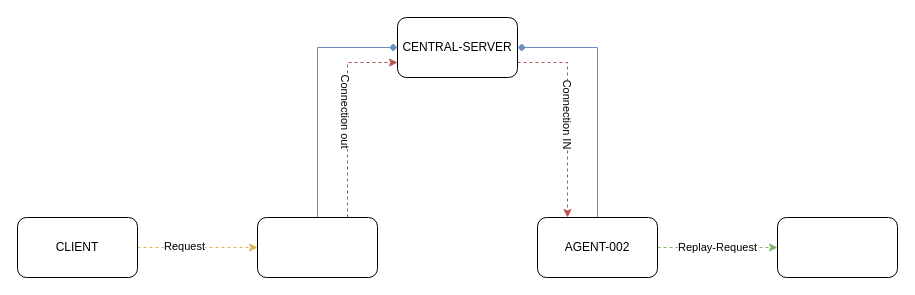
The diagram is 915 pixels wide and 295 high, and some of its shapes have lost their labels. Each missing label, with the centre of its shape:
"AGENT-001" belongs at (317,247).
"SERVER" belongs at (837,247).
